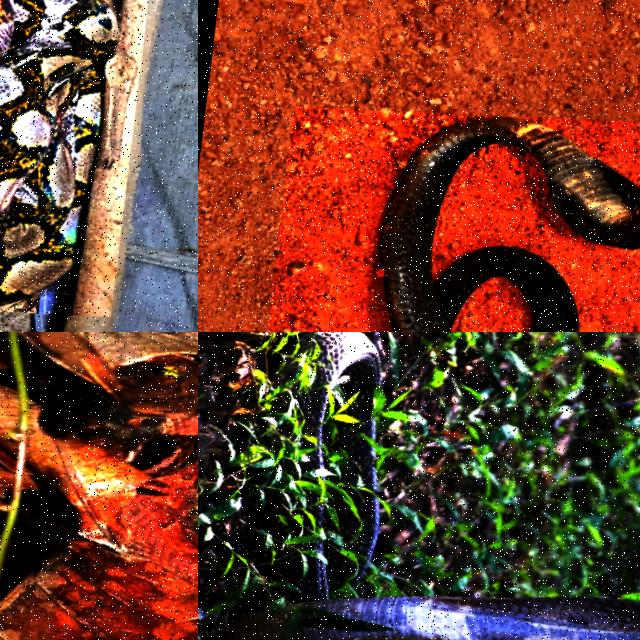Calloselasma rhodostoma: (125, 458, 197, 584)
Malayopython reticulatus: (0, 0, 113, 302)
Naja siamensis: (381, 116, 639, 331), (207, 543, 639, 639)
snake: (381, 116, 639, 331), (207, 543, 639, 639), (0, 0, 113, 302), (125, 458, 197, 584)
